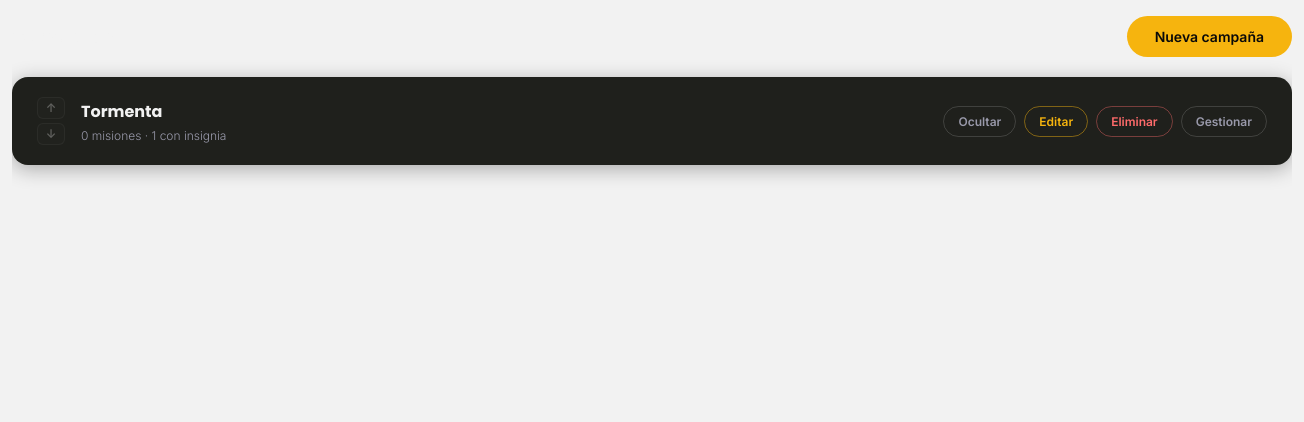
Test case: granting campaign badges › checks the players who already have the badge
Check: the heading "Tormenta" is shown, box x1=81 y1=100 x2=162 y2=123
Click the button "Gestionar": (1224, 121) x1=1181 y1=106 x2=1267 y2=136
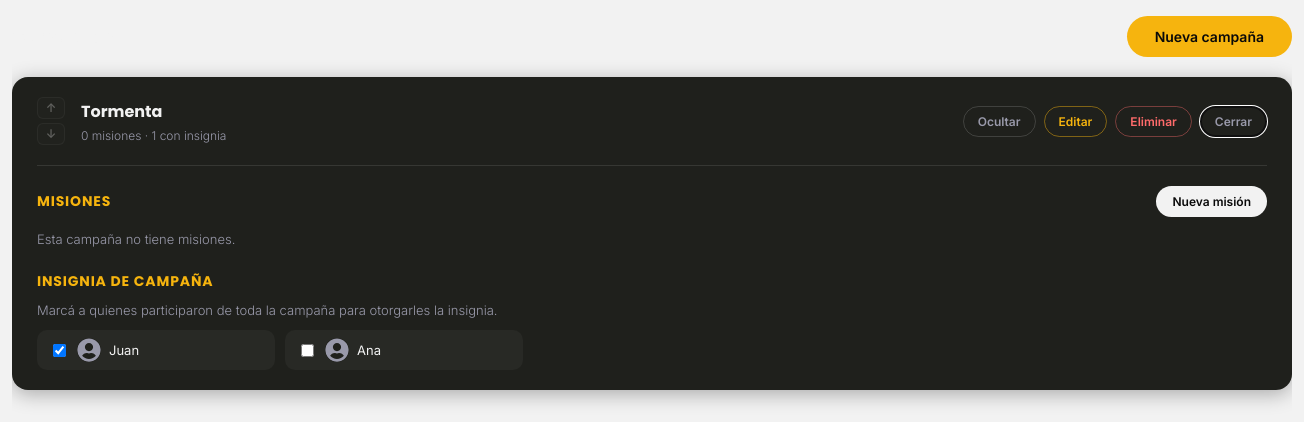
Check: the checkbox labelled "Juan" is checked, box x1=53 y1=344 x2=66 y2=356
Check: the checkbox labelled "Ana" is not checked, box x1=301 y1=344 x2=314 y2=356
